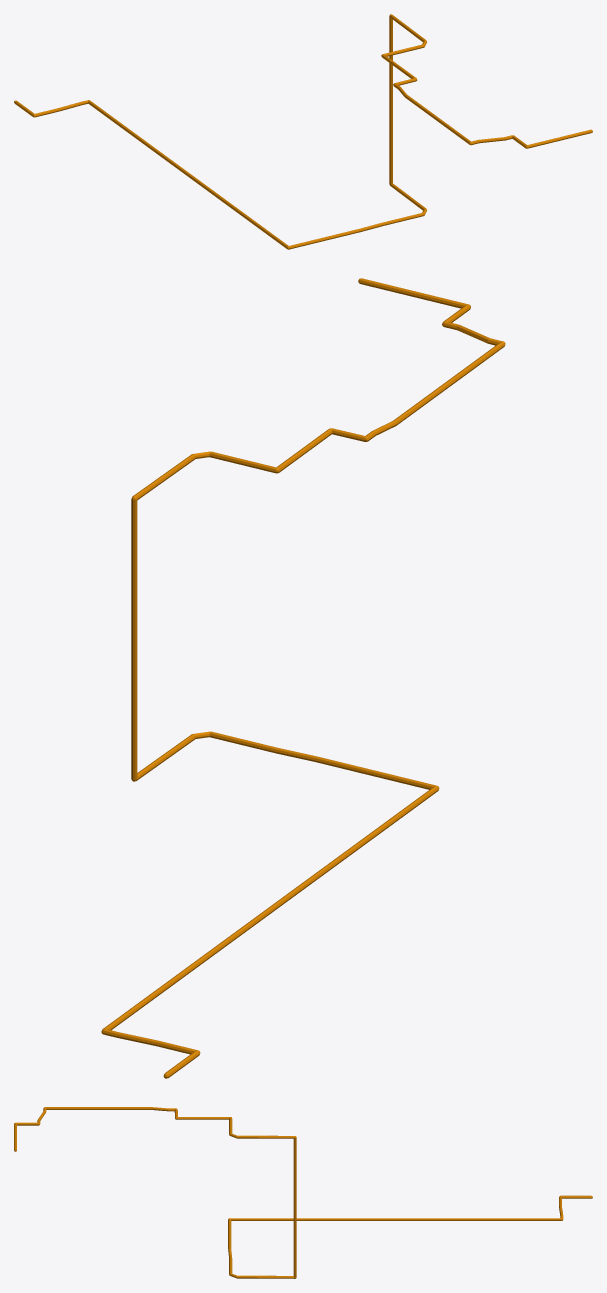
3 renders of one model, top to bottom at view 1: azimuth 30°, elevation 25°; view 2: azimuth 150°, elevation 25°; view 3: azimuth 270°, elevation 25°, orthographic. The views are drawn at different scales.
Size of the model in its own units: 1445 by 1020 by 3748.
